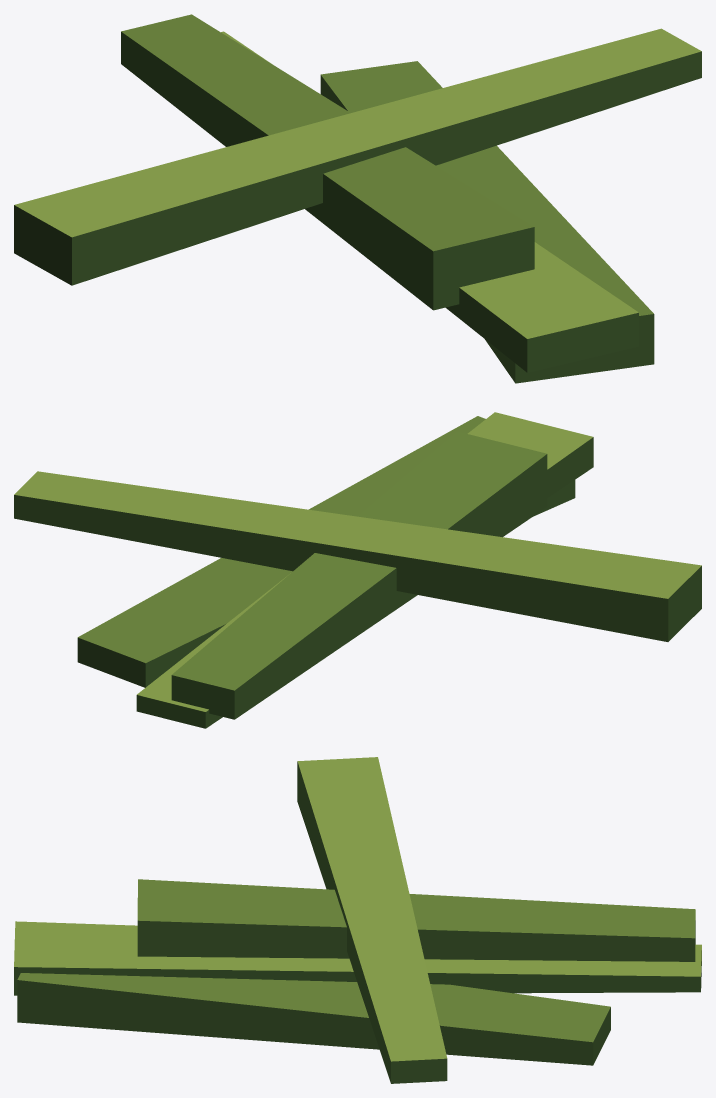
Rendered from gf_straw_c.glb.
3 views of the same model, one above another, from view 1: azimuth 30°, elevation 25°; view 2: azimuth 150°, elevation 25°; view 3: azimuth 270°, elevation 25° (orthographic). The views are drawn at different scales.
Visible parts, largest first — view 1: gf_straw_c; view 2: gf_straw_c; view 3: gf_straw_c.
Boxes of the visible parts, <box> form: gf_straw_c: <box>14,14,701,383</box>; gf_straw_c: <box>14,412,701,728</box>; gf_straw_c: <box>14,757,701,1083</box>.
Size of the model in its own units: 0.2258 by 0.0331 by 0.2293.
